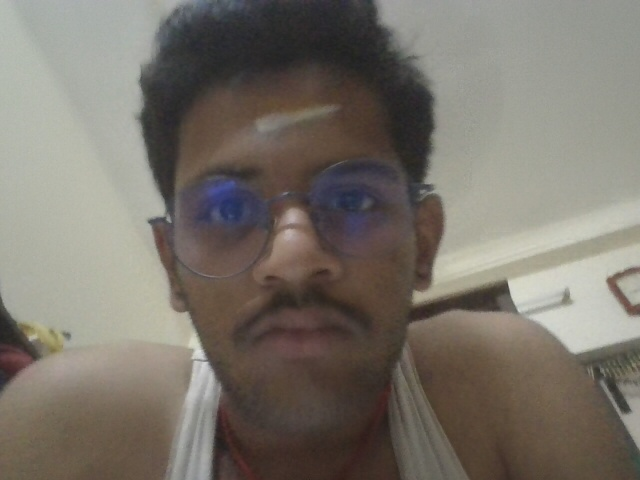real: (135, 78, 455, 398)
